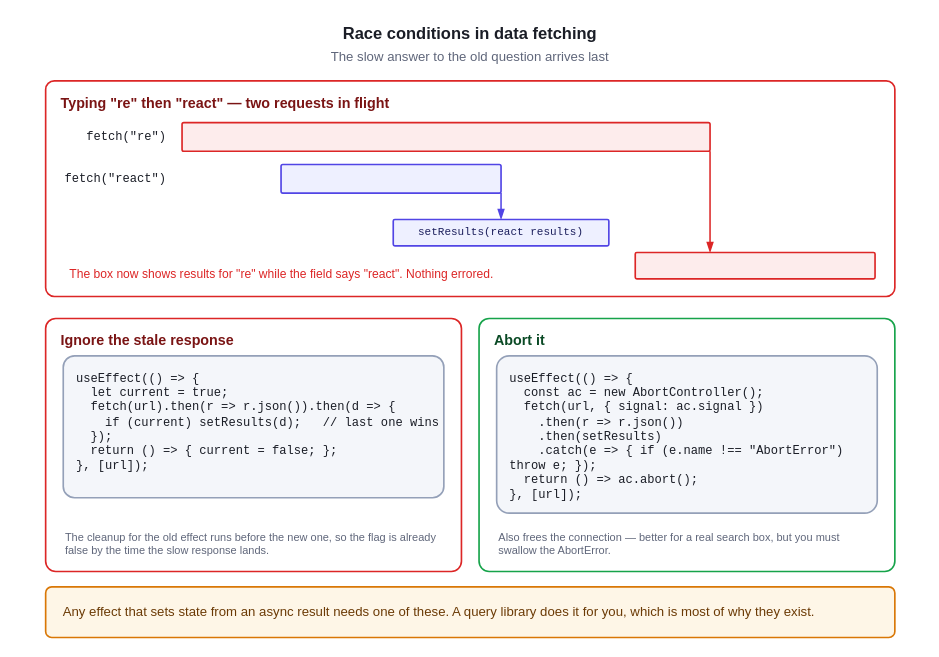
The diagram is 939 pixels wide and 657 high, and some of its shapes have lost their labels. The shapes that lost their labels are listed below. From the top down, each one's centre as x and y in pixels, then its label:
the point at 445,136: slow — 600 ms
the point at 390,178: fast — 150 ms
the point at 754,265: setResults(re results) ← overwrites
